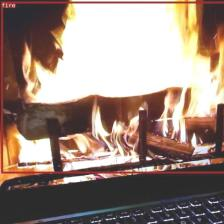fire: (1, 1, 224, 173)
